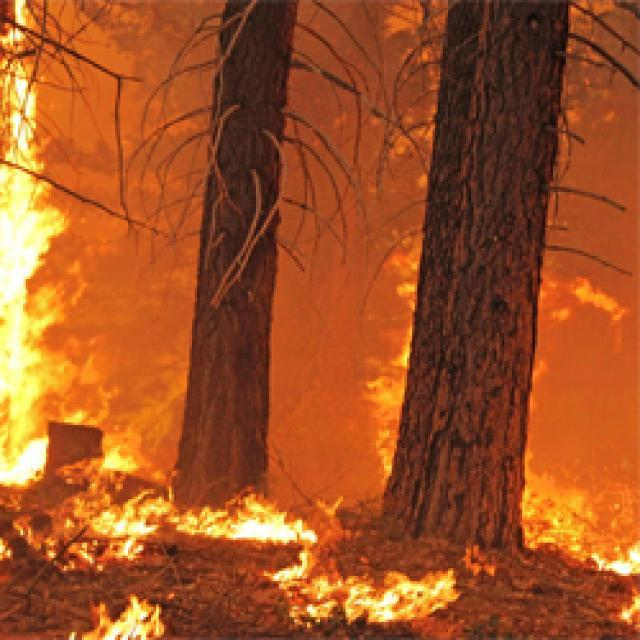Fire: (0, 3, 47, 489), (274, 550, 461, 628), (77, 492, 322, 538), (0, 530, 146, 580), (59, 596, 167, 640), (525, 492, 588, 556), (90, 436, 134, 470), (602, 545, 640, 574), (620, 596, 640, 629)
Smoke: (272, 4, 434, 488), (54, 0, 222, 419), (563, 0, 640, 489), (545, 196, 562, 491)
